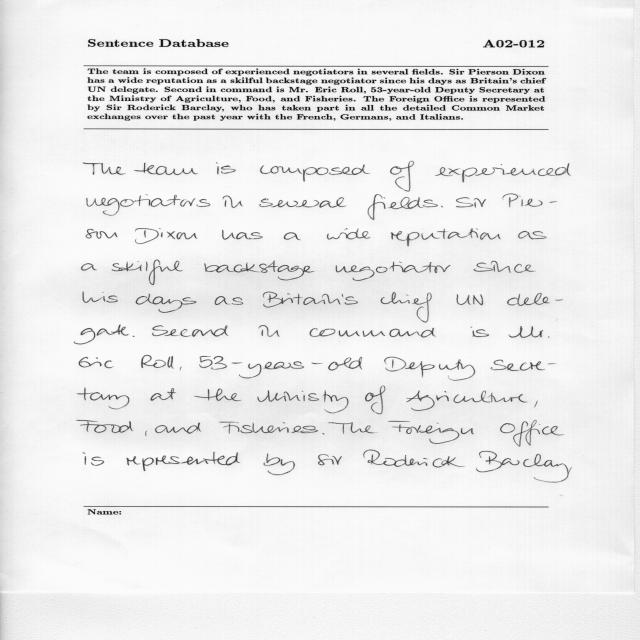word: (168, 356, 363, 378), (476, 451, 572, 483), (435, 163, 571, 183), (87, 194, 210, 216), (406, 390, 528, 411), (336, 261, 451, 281), (204, 261, 315, 281), (126, 452, 241, 471), (384, 357, 475, 381), (258, 391, 349, 414), (388, 421, 474, 444), (391, 229, 500, 247), (260, 165, 370, 182), (368, 194, 438, 220), (112, 260, 183, 285), (363, 450, 465, 467), (500, 420, 564, 447), (380, 292, 432, 322), (263, 292, 358, 307), (310, 328, 436, 338), (220, 422, 318, 434), (136, 294, 197, 313), (78, 388, 130, 410), (75, 325, 129, 344), (259, 197, 347, 208), (135, 229, 197, 244), (152, 325, 229, 337), (134, 163, 198, 175), (473, 261, 536, 273), (390, 161, 414, 192), (77, 420, 134, 433), (507, 293, 563, 306), (490, 360, 556, 371), (503, 194, 558, 207), (263, 454, 295, 476), (329, 422, 378, 434), (194, 389, 242, 401), (365, 386, 385, 414), (83, 162, 126, 175), (155, 423, 201, 434), (509, 326, 550, 338), (327, 229, 370, 240), (222, 230, 263, 240), (83, 292, 118, 303), (456, 197, 486, 208), (141, 355, 166, 368), (151, 388, 176, 401), (86, 229, 117, 239), (457, 295, 484, 306), (83, 452, 104, 466), (318, 454, 342, 465), (215, 296, 244, 305), (223, 195, 243, 208), (259, 325, 280, 337), (216, 163, 236, 175), (79, 357, 102, 367), (518, 231, 546, 239), (471, 327, 489, 337), (284, 233, 301, 241), (81, 263, 97, 271), (104, 361, 114, 369), (534, 401, 538, 407), (145, 431, 147, 436), (441, 206, 443, 208), (133, 336, 135, 337), (323, 433, 325, 434)
